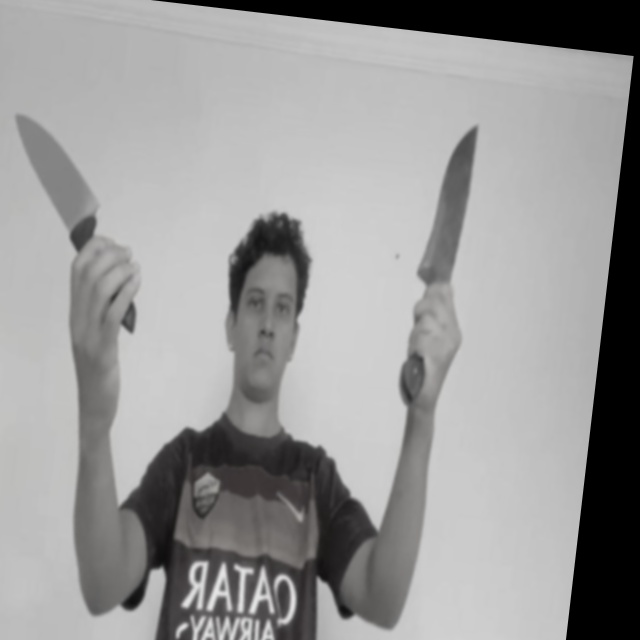Sharp-Object: (3, 106, 112, 221), (419, 122, 481, 281)
